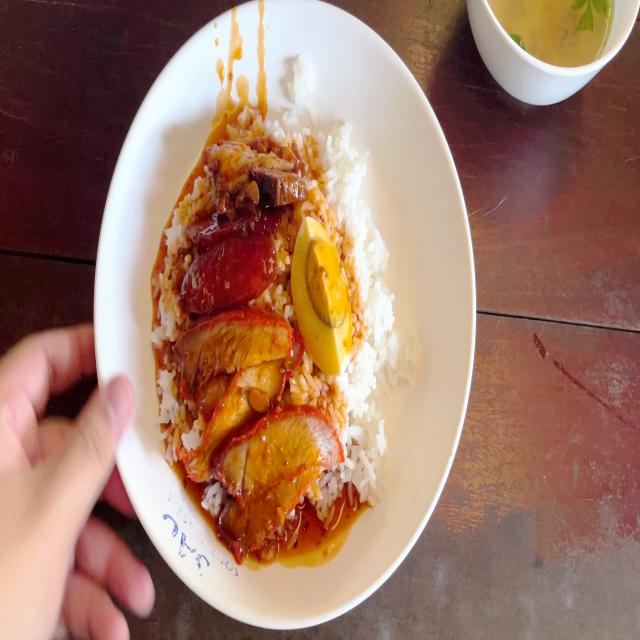boiled_egg: (297, 222, 351, 362)
chainese_sausage: (181, 211, 281, 300)
crispy_pork: (208, 140, 298, 207)
red_pork: (176, 316, 296, 500), (225, 405, 342, 539)
red_pork_and_crispy_pork: (165, 112, 393, 513)
rice: (352, 225, 394, 388), (298, 129, 369, 219), (347, 397, 389, 507)
